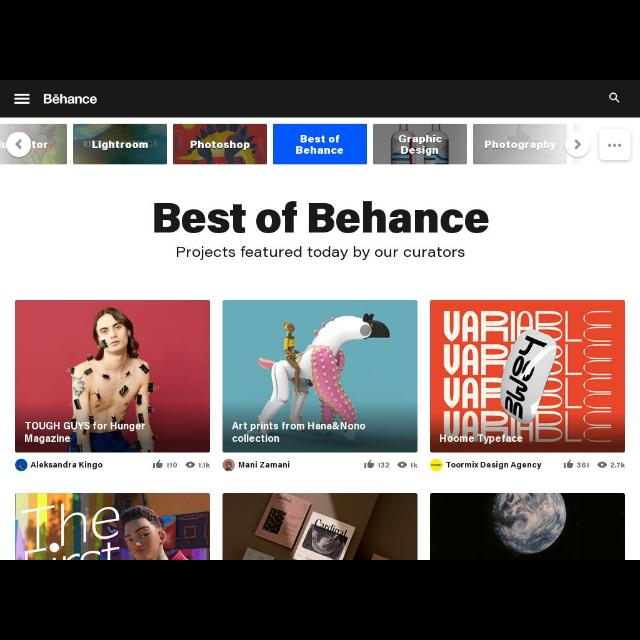button: (599, 130, 631, 160), (6, 132, 32, 158), (565, 132, 591, 158)
icon: (13, 92, 31, 106), (608, 92, 620, 104), (14, 138, 24, 150), (152, 459, 164, 468), (564, 460, 574, 470), (364, 460, 374, 470), (606, 142, 622, 148), (397, 460, 407, 468), (574, 138, 580, 150), (186, 460, 194, 468), (597, 462, 607, 468)
image: (14, 300, 210, 452), (430, 300, 626, 452), (223, 301, 417, 453), (14, 493, 210, 559), (223, 493, 417, 559), (430, 493, 624, 559), (15, 458, 27, 472), (223, 458, 235, 472), (431, 461, 441, 471)
text: (154, 202, 488, 234), (177, 246, 465, 260), (399, 133, 441, 157), (296, 135, 344, 155), (484, 138, 556, 150), (446, 462, 542, 471), (42, 92, 98, 106), (92, 138, 148, 150), (188, 140, 250, 150), (31, 462, 104, 470), (238, 461, 292, 469), (610, 461, 626, 469), (576, 461, 590, 469), (198, 463, 210, 469), (378, 462, 390, 468), (166, 462, 177, 468), (409, 462, 417, 468)
